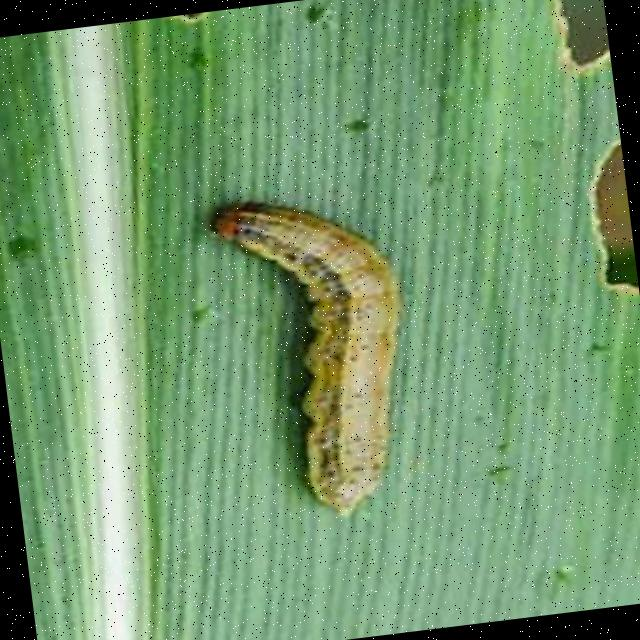worm: (207, 181, 432, 531)
